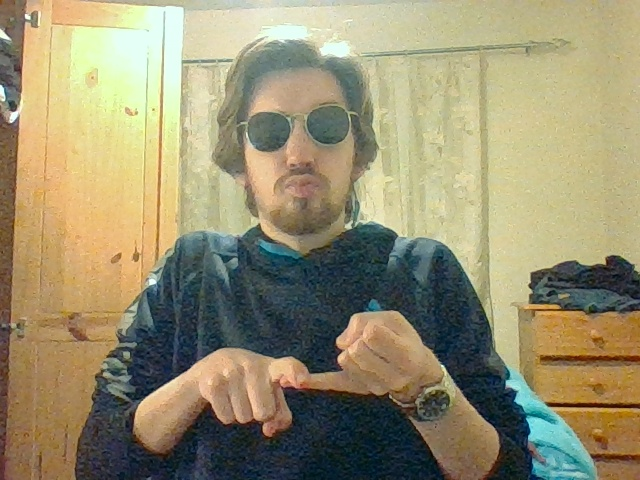step: (206, 309, 411, 436)
